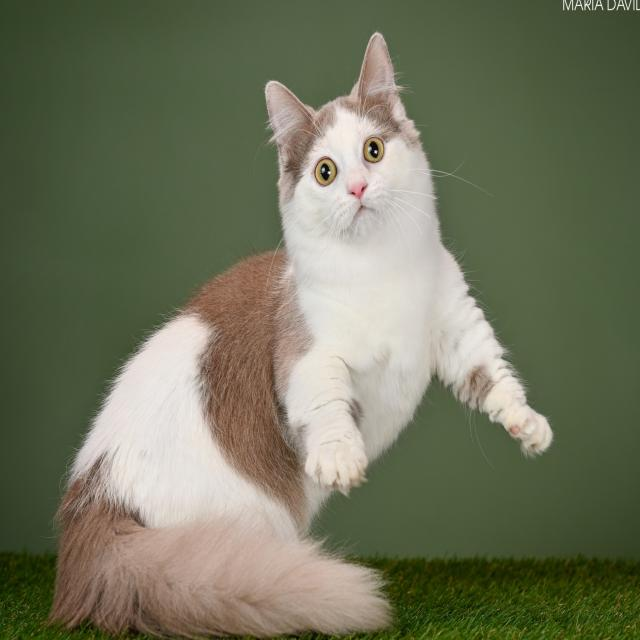Munchkin: (41, 22, 557, 640)
